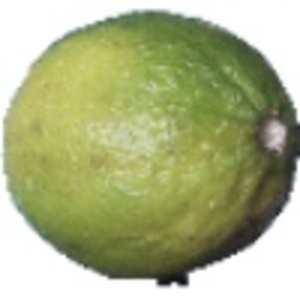limão: (1, 3, 300, 287)
